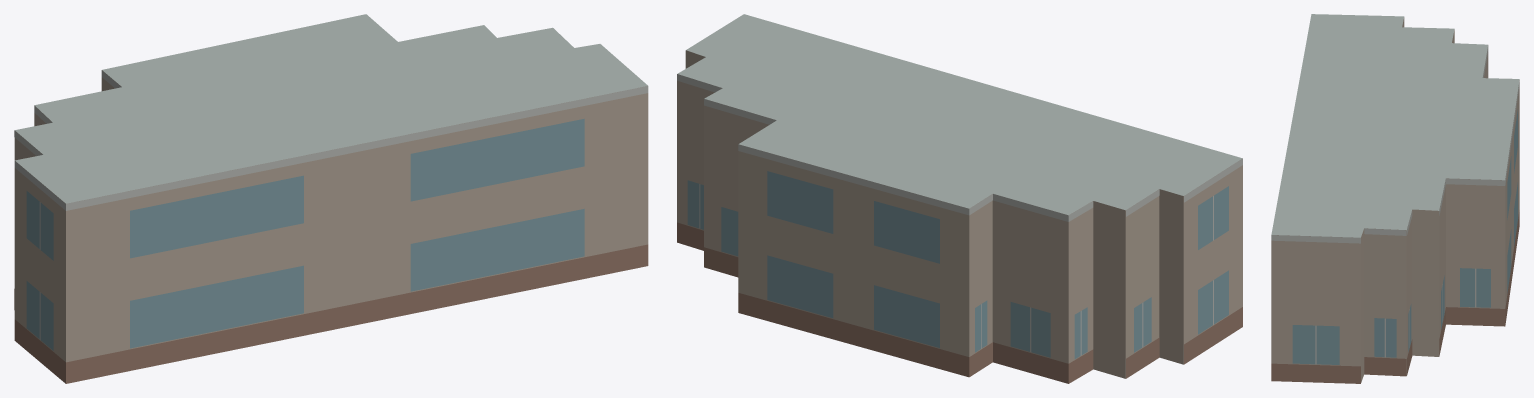
File: survey-upis-32949123.glb
3 views of the same model, side by side, from view 1: azimuth 30°, elevation 25°; view 2: azimuth 150°, elevation 25°; view 3: azimuth 270°, elevation 25° (orthographic). The views are drawn at different scales.
Parts seen in each view (by area): view 1: survey-upis-32949123.tmp; view 2: survey-upis-32949123.tmp; view 3: survey-upis-32949123.tmp.
Boxes of the visible parts, x1,y1,x2,y2 form: survey-upis-32949123.tmp: (14, 14, 648, 383); survey-upis-32949123.tmp: (677, 14, 1242, 383); survey-upis-32949123.tmp: (1271, 14, 1519, 383).
Bounding box in the file's own units: 20.03 × 6.1 × 9.4.
